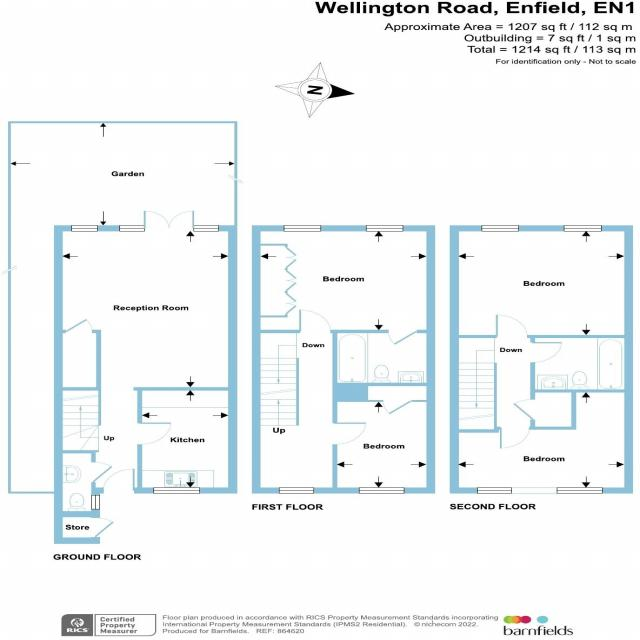DOOR: (102, 468, 136, 494), (297, 308, 332, 333), (331, 422, 367, 445), (137, 422, 172, 445), (495, 314, 528, 338), (530, 341, 563, 364), (499, 426, 530, 449), (91, 461, 114, 483), (387, 330, 418, 346)
DOUBLE DOOR: (140, 208, 197, 232)
ROOM: (252, 225, 435, 345), (449, 225, 633, 338), (449, 389, 633, 494), (332, 382, 436, 494), (137, 387, 238, 494)
WINDOW: (152, 487, 201, 494), (556, 487, 603, 494), (358, 487, 405, 494), (283, 225, 322, 232), (365, 225, 404, 232), (563, 225, 602, 232), (481, 225, 519, 232), (278, 487, 315, 494), (477, 487, 513, 494), (70, 224, 99, 232), (118, 224, 146, 232), (91, 495, 100, 510)
